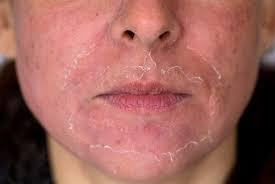Dry-Skin: (141, 51, 170, 78), (71, 50, 106, 66), (196, 70, 226, 88), (93, 133, 116, 155), (166, 148, 192, 167), (65, 113, 83, 136), (194, 136, 219, 151)
